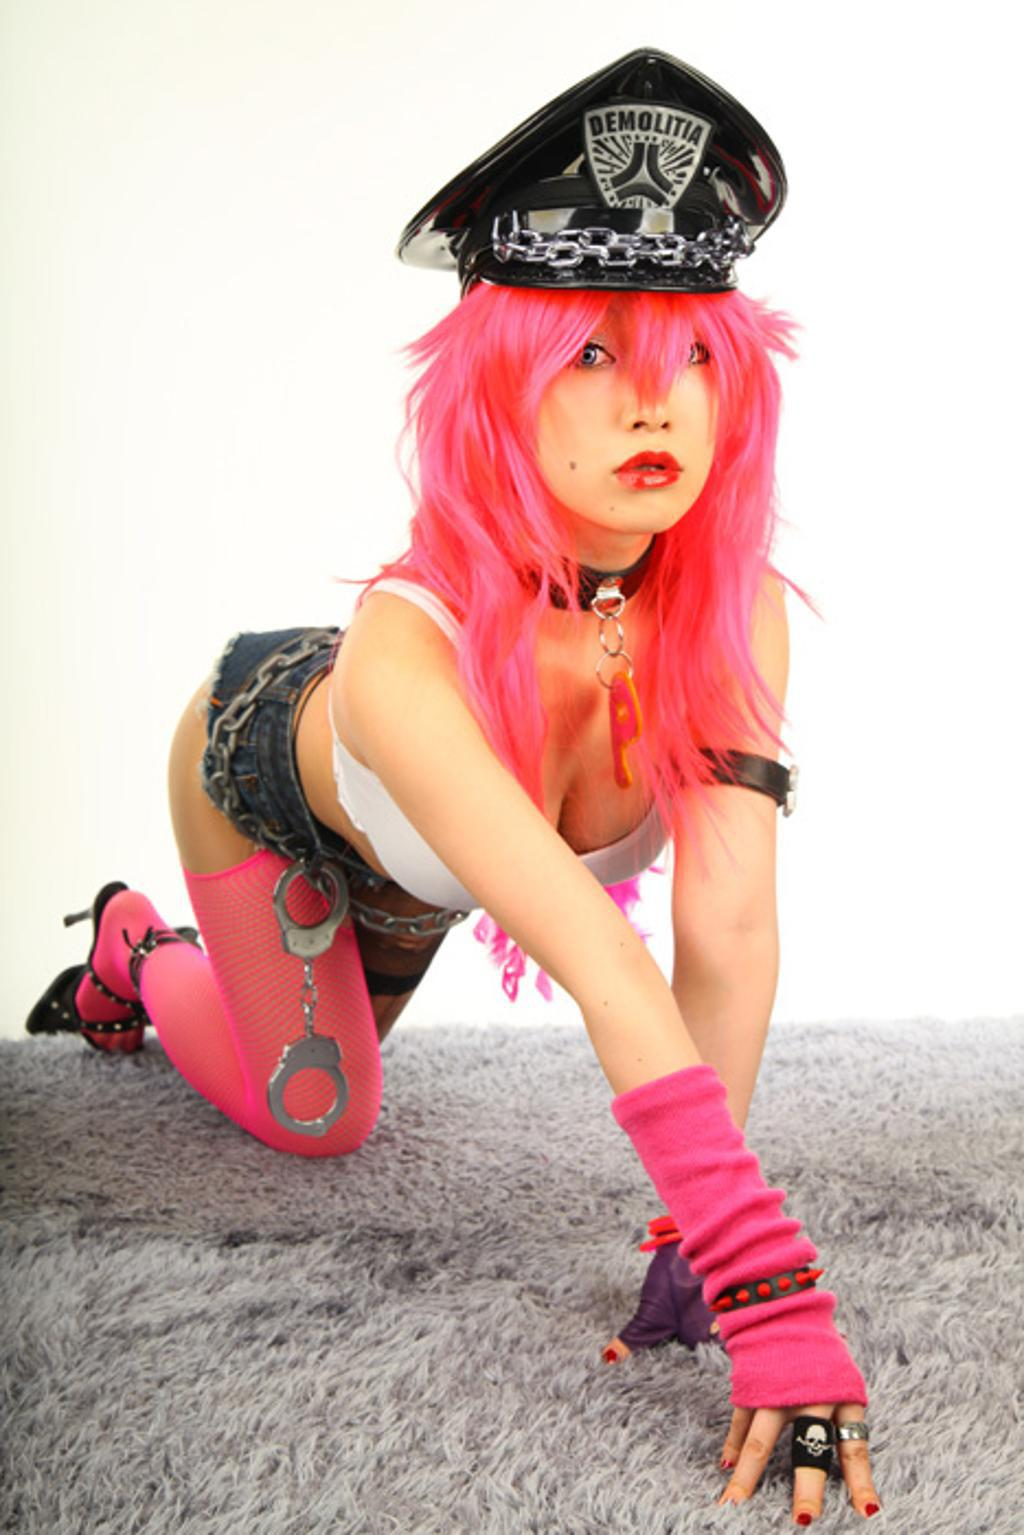face: (534, 258, 732, 533)
